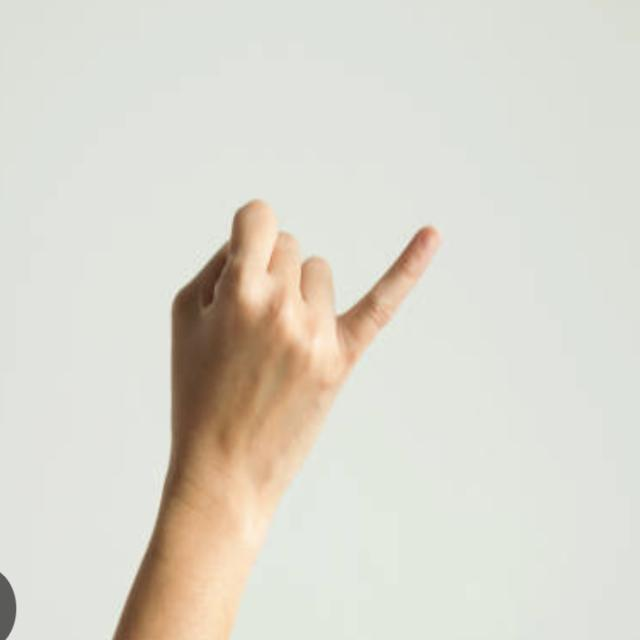pinky: (338, 212, 452, 366)
